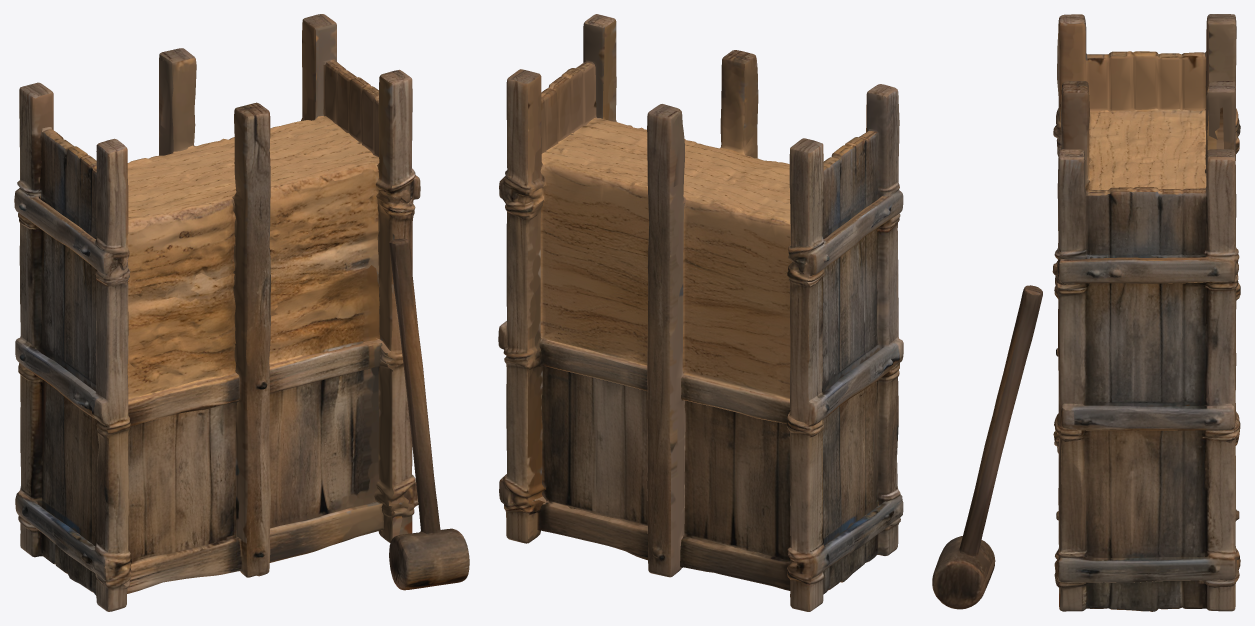
Rendered from rammed-earth.glb.
3 renders of one model, left to right at view 1: azimuth 30°, elevation 25°; view 2: azimuth 150°, elevation 25°; view 3: azimuth 270°, elevation 25°, orthographic.
Parts seen in each view (by area): view 1: 1_output_1793512074676104_kgTxkmysA; view 2: 1_output_1793512074676104_kgTxkmysA; view 3: 1_output_1793512074676104_kgTxkmysA.
Part boxes in pixels (x1=…): 1_output_1793512074676104_kgTxkmysA: x1=14, y1=14, x2=469, y2=611; 1_output_1793512074676104_kgTxkmysA: x1=498, y1=14, x2=903, y2=611; 1_output_1793512074676104_kgTxkmysA: x1=932, y1=14, x2=1240, y2=611.
Bounding box in the file's own units: 1.46 × 1.99 × 1.22.
1 material, 1 textured.
